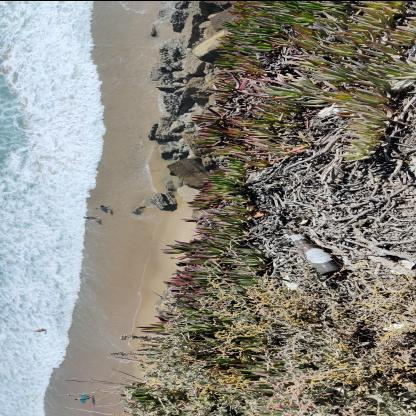cam: (287, 231, 342, 276)
